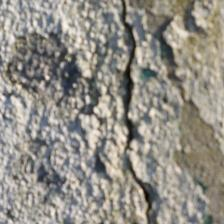Crack: (58, 1, 101, 220)
